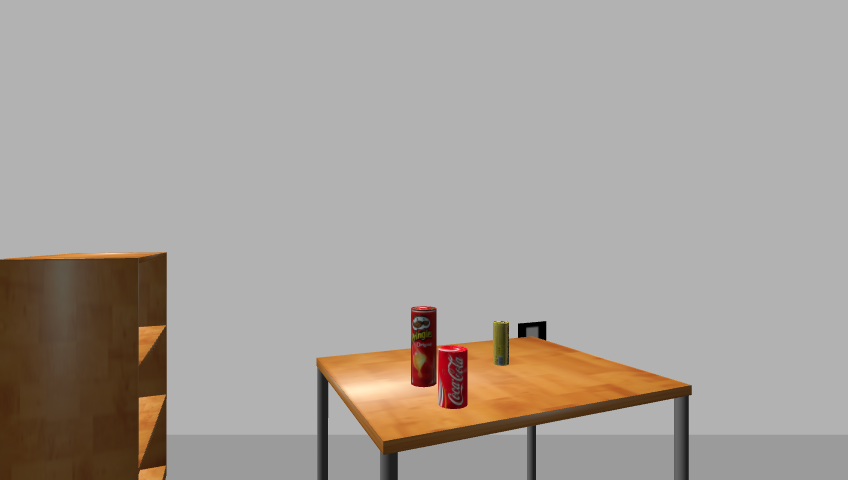aruco marker: (513, 320, 550, 343)
biscuits pack: (492, 320, 510, 367)
bookshelf: (0, 250, 176, 479)
coke can: (439, 346, 469, 410)
dinner table: (305, 342, 700, 480)
pringles can: (408, 305, 439, 390)
